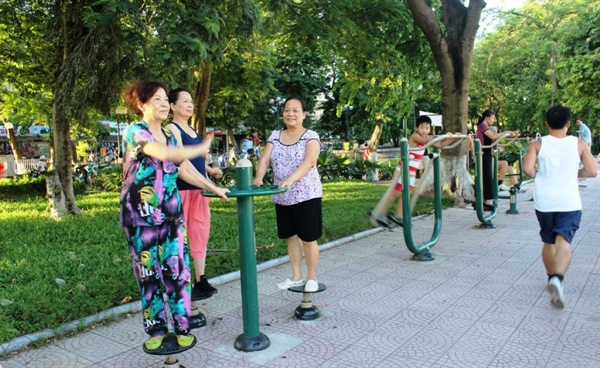person: (112, 73, 205, 352), (519, 100, 599, 312), (252, 93, 332, 294), (164, 84, 226, 303), (366, 112, 467, 232), (468, 104, 517, 211)
